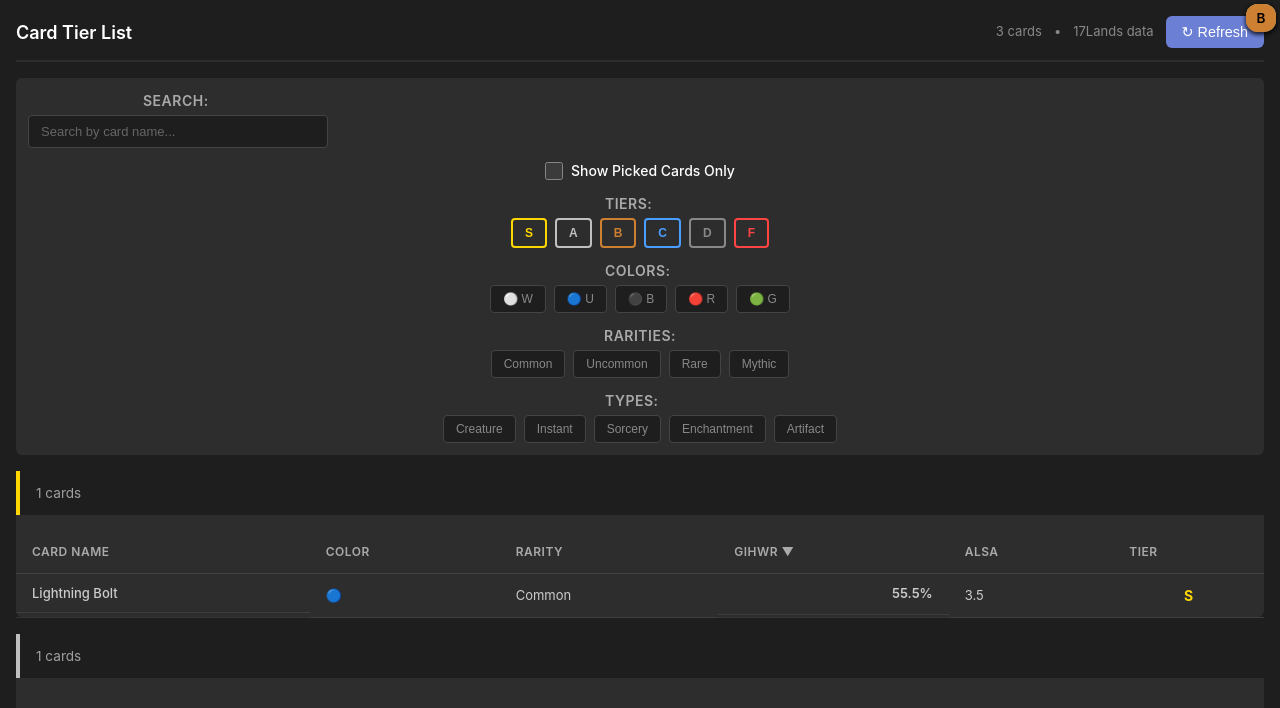
Scenario: TierList Component › Search Functionality › should update filtered count when searching
Expected: the text "3 cards" is shown, [996,22,1042,42]
Search for "lightning"
Step 1. Type "lightning" into the field with placeholder "Search by card name..." → (178, 132), box [28,115,328,148]
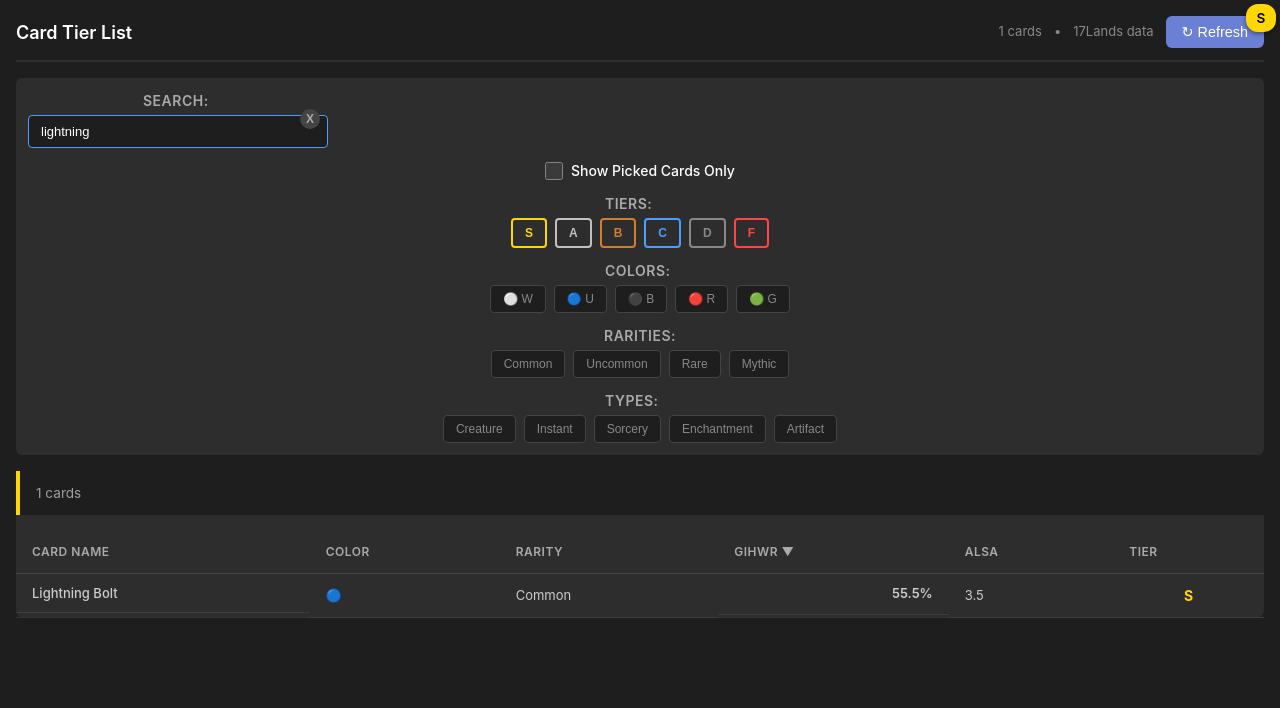
Now the text "1 cards" next to "17Lands data" is shown, box [999,22,1042,42]
